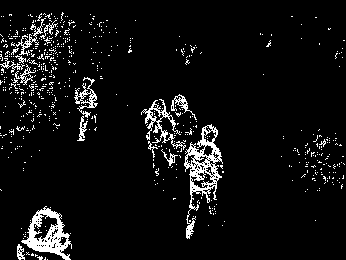person: (185, 123, 224, 239), (144, 97, 173, 177), (74, 75, 97, 142), (170, 95, 195, 150)
